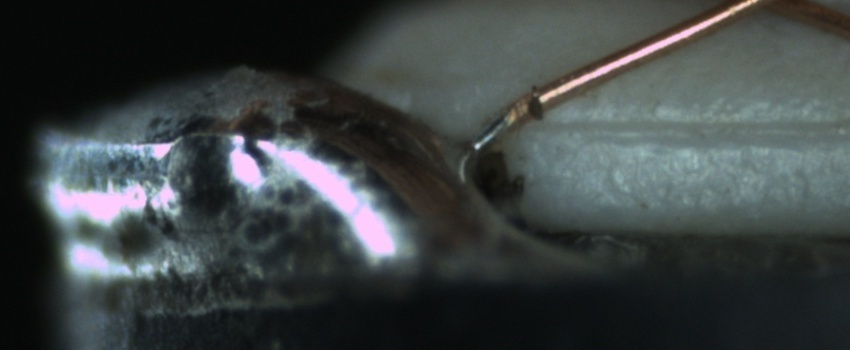CL: (704, 0, 825, 20)
DL: (535, 94, 849, 159)
TS: (469, 117, 507, 152)
TTCW: (467, 85, 538, 154)
